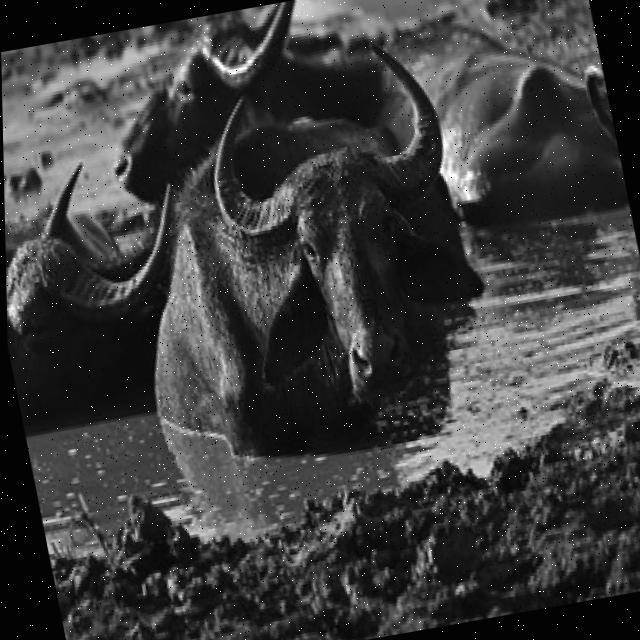Buffalo: (100, 38, 505, 450)
